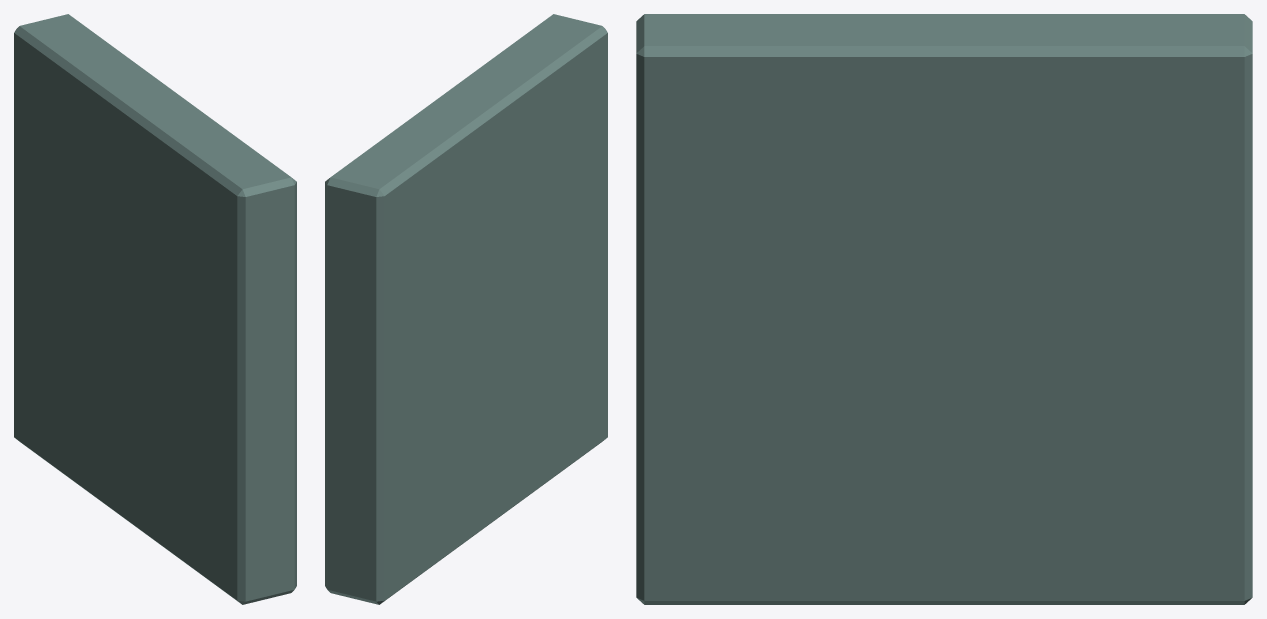
Rendered from ButtonBase.gltf.
3 views of the same model, side by side, from view 1: azimuth 30°, elevation 25°; view 2: azimuth 150°, elevation 25°; view 3: azimuth 270°, elevation 25° (orthographic). The views are drawn at different scales.
Parts seen in each view (by area): view 1: ButtonBase; view 2: ButtonBase; view 3: ButtonBase.
Part boxes in pixels (x1,y1,x2,y2): ButtonBase: (14, 14, 296, 604); ButtonBase: (325, 14, 607, 604); ButtonBase: (636, 14, 1252, 604).
Bounding box in the file's own units: 0.1604 × 1.07 × 1.07.
